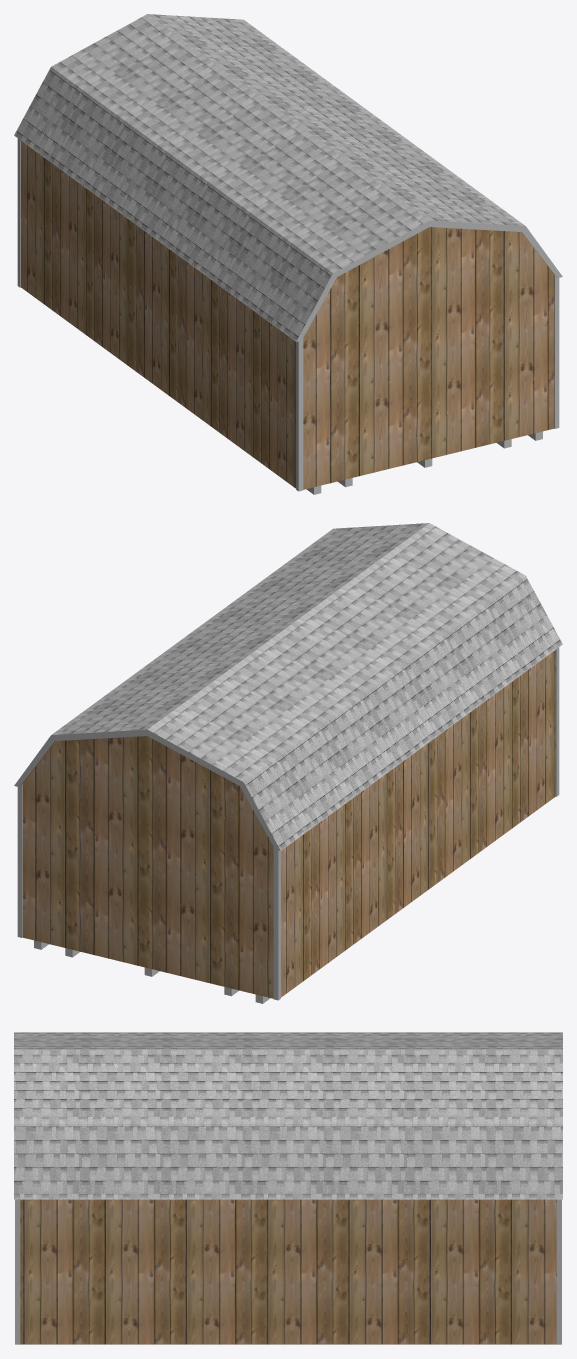
File: Dutch Barn_12x22.obj
3 renders of one model, top to bottom at view 1: azimuth 30°, elevation 25°; view 2: azimuth 150°, elevation 25°; view 3: azimuth 270°, elevation 25°, orthographic. The views are drawn at different scales.
Parts seen in each view (by area): view 1: Shed, Roof, Trim, Sides; view 2: Shed, Roof, Trim, Sides; view 3: Roof, Shed, Trim, Floor.
Boxes of the visible parts, x1=… form: Shed: x1=21, y1=141, x2=556, y2=489; Roof: x1=14, y1=14, x2=524, y2=341; Trim: x1=17, y1=138, x2=559, y2=491; Sides: x1=296, y1=220, x2=562, y2=341; Shed: x1=20, y1=650, x2=555, y2=998; Roof: x1=52, y1=523, x2=562, y2=850; Trim: x1=17, y1=647, x2=559, y2=1000; Sides: x1=14, y1=729, x2=280, y2=850; Roof: x1=14, y1=1032, x2=562, y2=1199; Shed: x1=20, y1=1199, x2=556, y2=1344; Trim: x1=15, y1=1199, x2=561, y2=1344; Floor: x1=20, y1=1344, x2=556, y2=1344.
Bounding box in the file's own units: 3.69 × 3.27 × 6.76.
